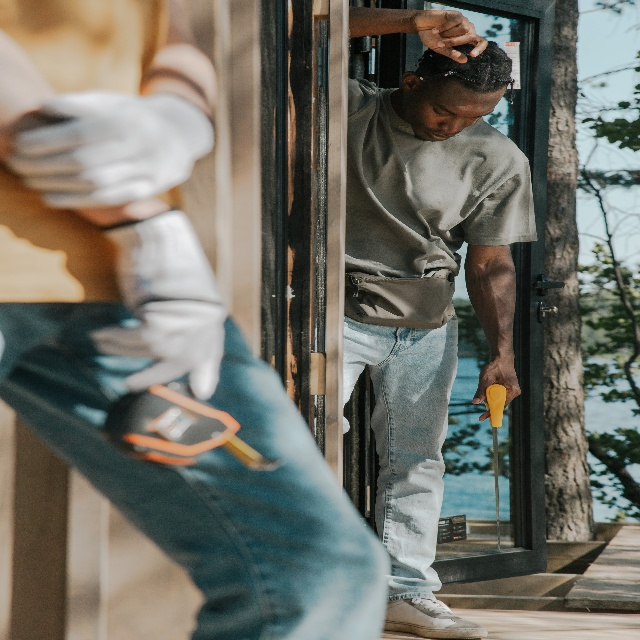Guantes: (87, 208, 226, 402), (4, 89, 216, 212)
Sin_guantes: (414, 8, 489, 64), (472, 356, 521, 422)
